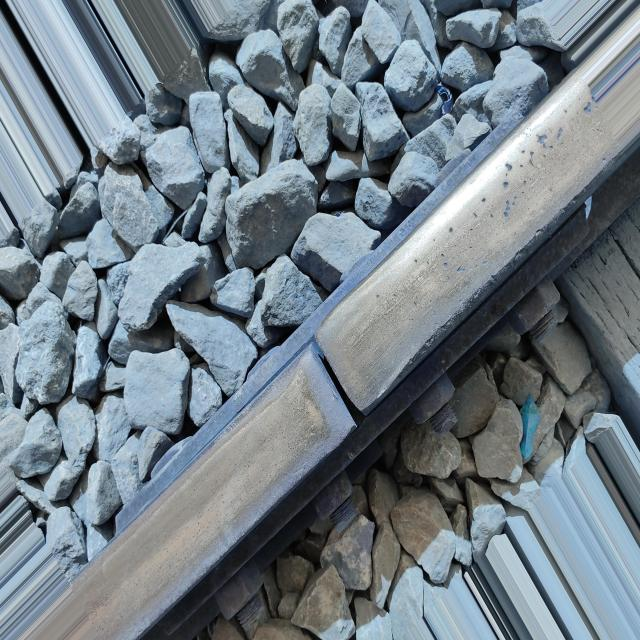crack: (286, 314, 400, 456)
